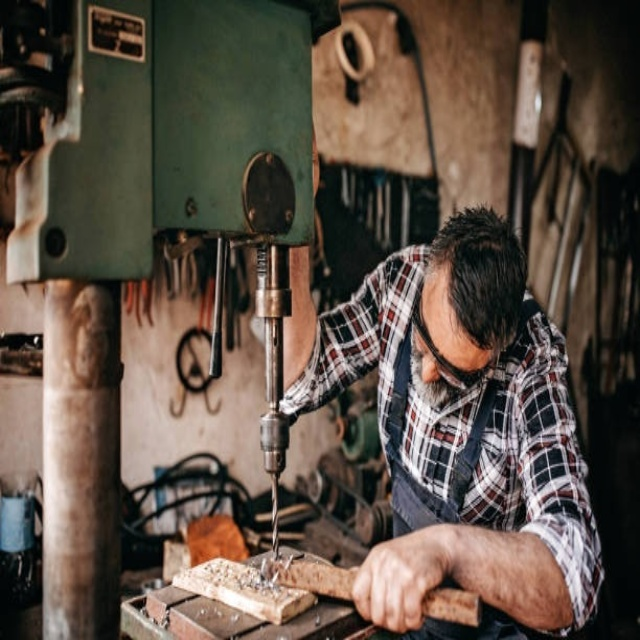Gafas: (413, 290, 495, 391)
Sin_guantes: (349, 535, 447, 634)
